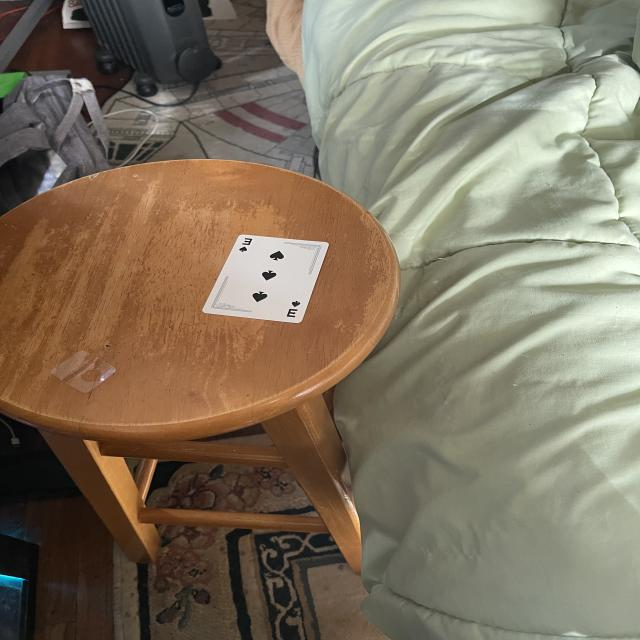3 of spades: (202, 235, 329, 323)
